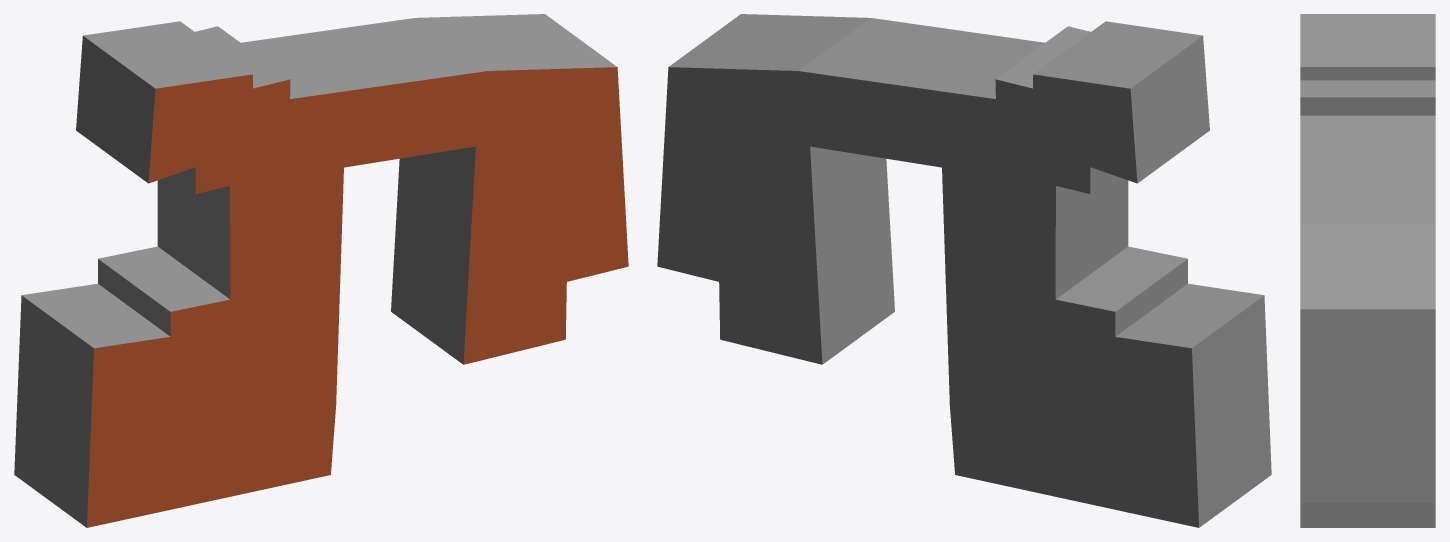
Rendered from construction_1430_assumed_A_Casa_h6m.obj.
3 renders of one model, left to right at view 1: azimuth 30°, elevation 25°; view 2: azimuth 150°, elevation 25°; view 3: azimuth 270°, elevation 25°, orthographic. The views are drawn at different scales.
Parts seen in each view (by area): view 1: construction_1430_assumed_A_Casa; view 2: construction_1430_assumed_A_Casa; view 3: construction_1430_assumed_A_Casa.
Part boxes in pixels (bbox=[...]): construction_1430_assumed_A_Casa: bbox=[14, 14, 628, 527]; construction_1430_assumed_A_Casa: bbox=[657, 14, 1271, 527]; construction_1430_assumed_A_Casa: bbox=[1300, 14, 1435, 527].
Size of the model in its own units: 25.86 by 19.57 by 6.
